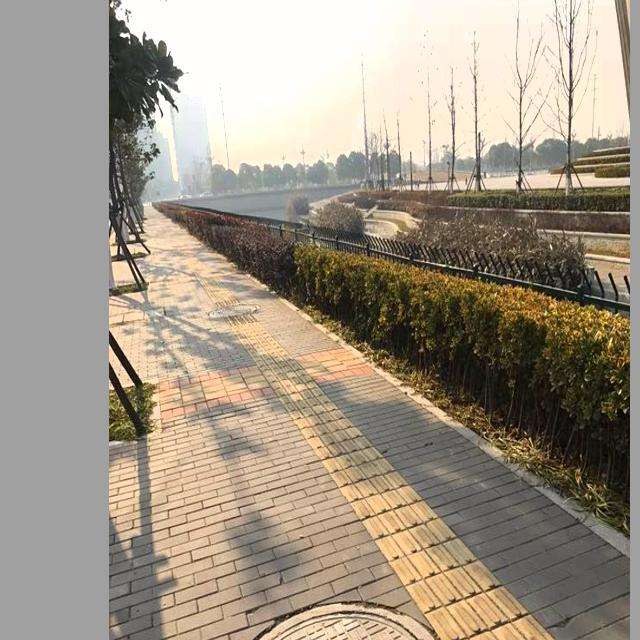circle: (210, 601, 456, 640)
